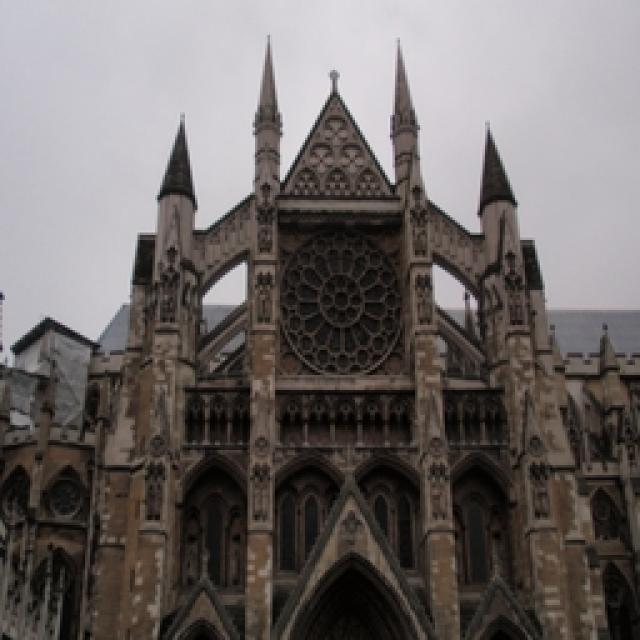Abbey: (64, 80, 611, 640)
